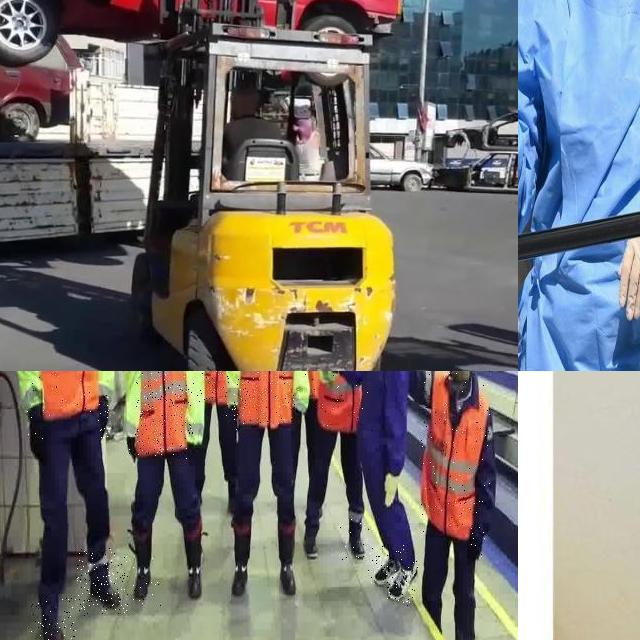BOOTS: (76, 548, 128, 616), (31, 597, 77, 640), (388, 556, 420, 606), (129, 558, 161, 606), (339, 519, 372, 565), (366, 546, 404, 584)
VEST: (421, 371, 490, 541), (135, 371, 195, 456), (236, 371, 296, 427), (320, 371, 372, 434), (32, 371, 98, 416), (197, 371, 237, 402), (295, 371, 325, 397)
